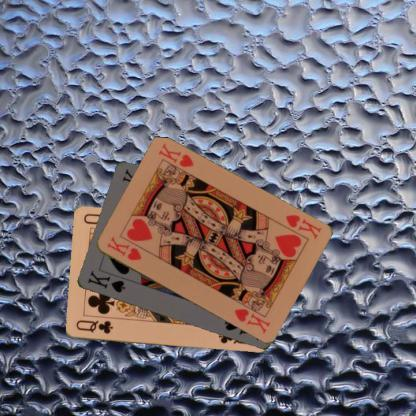Kh: (282, 212, 322, 241), (104, 234, 143, 262)
Ks: (85, 268, 126, 294)
Qc: (73, 318, 114, 336)
